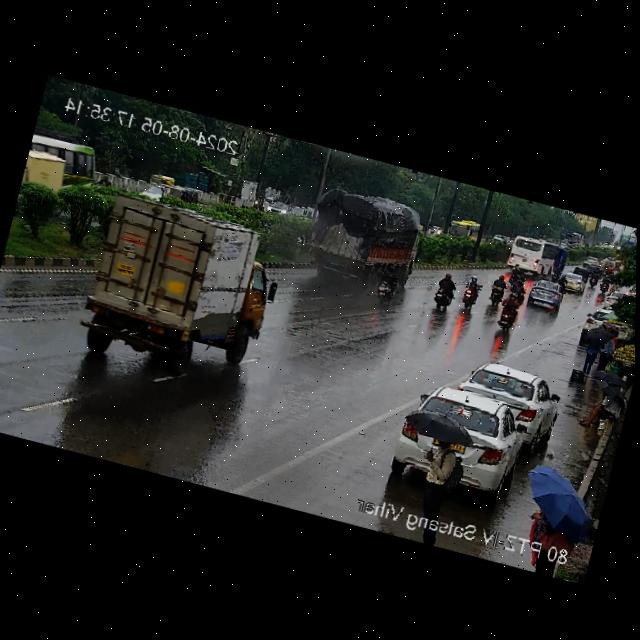bus: (22, 126, 100, 207), (501, 229, 568, 280), (446, 212, 482, 243)
car: (372, 372, 520, 514), (454, 356, 560, 436), (523, 275, 565, 314), (159, 182, 200, 211), (556, 270, 591, 297), (580, 306, 604, 342), (262, 196, 294, 218), (150, 170, 173, 186), (582, 253, 599, 269), (571, 267, 589, 280)
motorcycle: (490, 292, 524, 335), (426, 268, 456, 311), (454, 272, 485, 313), (375, 260, 400, 299), (485, 271, 511, 308), (247, 190, 265, 211), (586, 266, 601, 289), (598, 271, 612, 294), (97, 172, 112, 185)
person: (524, 478, 599, 551), (413, 426, 470, 517), (578, 374, 630, 434), (574, 320, 619, 378)
truck: (71, 183, 287, 366), (299, 183, 419, 286)
